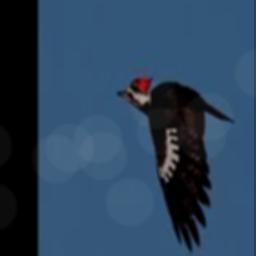Woodpecker: (118, 76, 234, 250)
